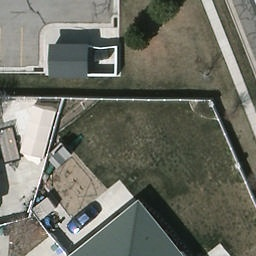camping car: (0, 141, 1, 214)
car: (66, 204, 100, 236)
